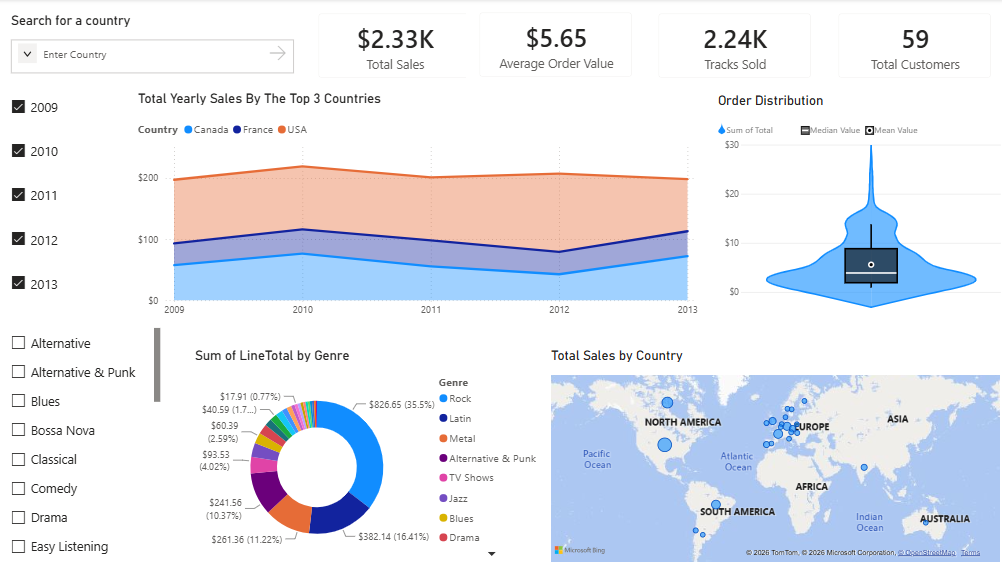

This screenshot's page, from the dashboard's own definition file:
{"tool":"powerbi","page":{"name":"Main Dashboard","canvas":[1280,720],"ordinal":1},"visuals":[{"type":"stackedAreaChart","title":"Total Yearly Sales By The Top 3 Countries","fields":{"Category":["Calendar.Year Hierarchy.Year","Calendar.Year Hierarchy.Month"],"Series":["Customer.Country"],"Y":["Sum(InvoiceLine.LineTotal)"]},"box":[171.4,116.2,722.1,297.8],"z":0},{"type":"map","title":"Total Sales by Country","fields":{"Category":["Customer.Country"],"Size":["Sum(Invoice.Total)"]},"box":[697.4,443.1,581.2,277.5],"z":1000},{"type":"listSlicer","fields":{"Values":["Calendar.Year"]},"box":[9.8,104.7,152.1,291.6],"z":2000},{"type":"cardVisual","fields":{"Data":["CountNonNull(InvoiceLine.TrackId)"]},"box":[822.3,1.5,228,116],"z":3000},{"type":"cardVisual","fields":{"Data":["Count(Invoice.CustomerId)"]},"box":[1050.4,1.5,228,116],"z":4000},{"type":"cardVisual","fields":{"Data":["Sum(InvoiceLine.LineTotal)"]},"box":[389.4,1.5,228,116],"z":5000},{"type":"listSlicer","fields":{"Values":["Genre.Name"]},"box":[9.8,413,200.9,307],"z":6000},{"type":"donutChart","fields":{"Category":["Genre.Name"],"Y":["Sum(InvoiceLine.LineTotal)"]},"box":[244.1,443.1,453.3,276],"z":7000},{"type":"textSlicer","title":"Search for a country","fields":{"Values":["Customer.Country"]},"box":[10.1,16.1,370.3,82.5],"z":8000},{"type":"cardVisual","fields":{"Data":["Album.Average Order Value"]},"box":[594.2,0,228,116],"z":8001},{"type":"violinPlot4D46EB9EB3A141D9BA2289793175D971","title":"Order Distribution","fields":{"measure":["Sum(Invoice.Total)"],"sampling":["Invoice.InvoiceId"]},"box":[909.5,117.7,370.5,296.4],"z":8002}]}

Visuals, with their boxes in screenshot pixels (x1, y1, x2, y2), scaled from the page's 1280x720 canvas onto the 1002x564 screenshot:
"Total Yearly Sales By The Top 3 Countries" stackedAreaChart: locate(134, 91, 699, 324)
"Total Sales by Country" map: locate(546, 347, 1001, 563)
listSlicer - Calendar.Year: locate(8, 82, 127, 310)
cardVisual - CountNonNull(InvoiceLine.TrackId): locate(644, 1, 822, 92)
cardVisual - Count(Invoice.CustomerId): locate(822, 1, 1001, 92)
cardVisual - Sum(InvoiceLine.LineTotal): locate(305, 1, 483, 92)
listSlicer - Genre.Name: locate(8, 324, 165, 563)
donutChart - Genre.Name x Sum(InvoiceLine.LineTotal): locate(191, 347, 546, 563)
"Search for a country" textSlicer: locate(8, 13, 298, 77)
cardVisual - Album.Average Order Value: locate(465, 0, 644, 91)
"Order Distribution" violinPlot4D46EB9EB3A141D9BA2289793175D971: locate(712, 92, 1001, 324)
